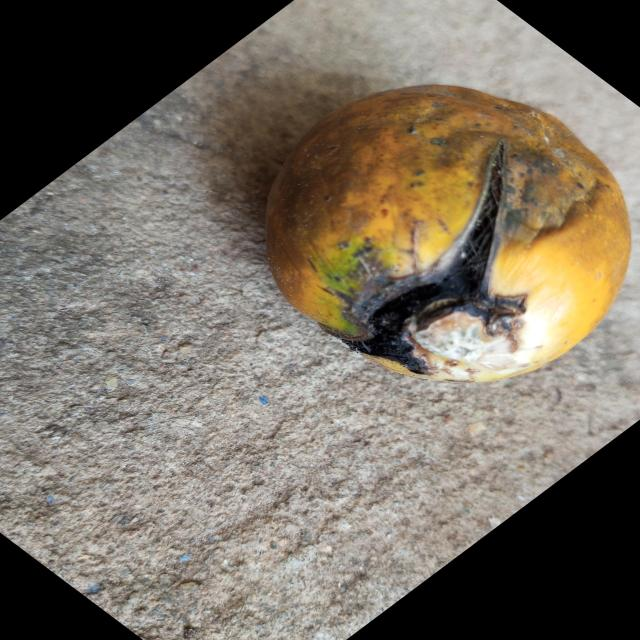damaged: (266, 85, 630, 382)
